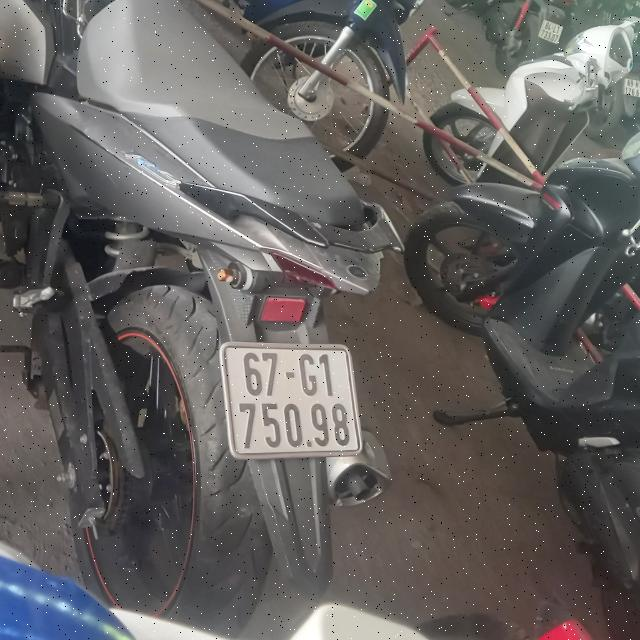0: (284, 403, 302, 447)
1: (318, 354, 334, 396)
5: (261, 403, 282, 447)
6: (244, 352, 262, 396)
7: (239, 403, 255, 451), (261, 352, 278, 396)
8: (332, 403, 350, 447)
9: (311, 404, 329, 446)
G: (298, 353, 318, 395)
